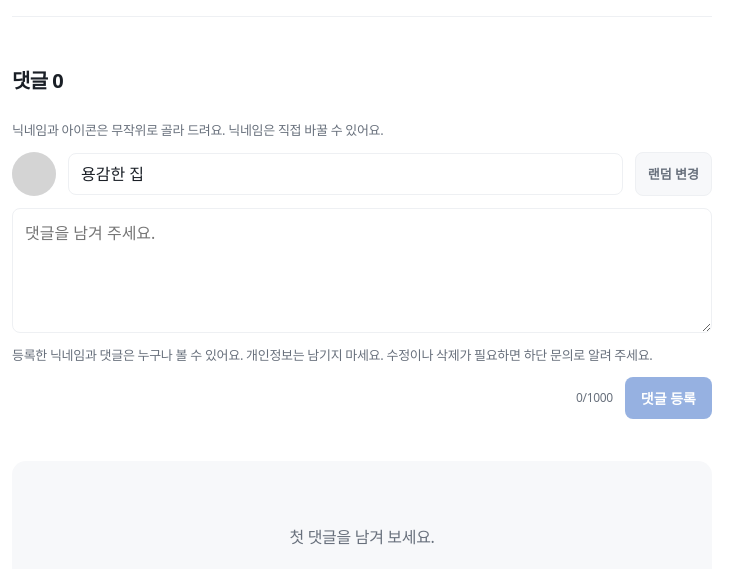
Test case: CommentsSection pending requests › keeps a new draft typed while the previous comment is being submitted
Step 1. Type "첫 번째 댓글" into the text box named "댓글 내용" → (362,271), box 12,208 -> 712,333
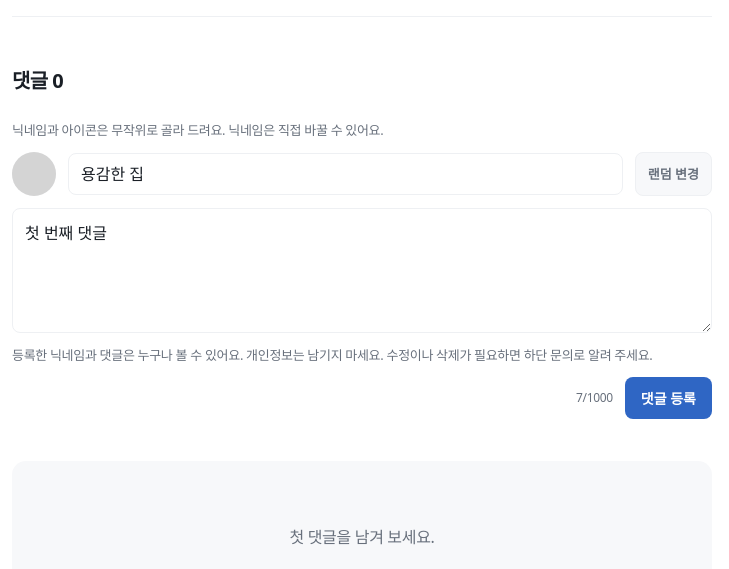
Step 2. Submit the form, box 12,120 -> 712,420
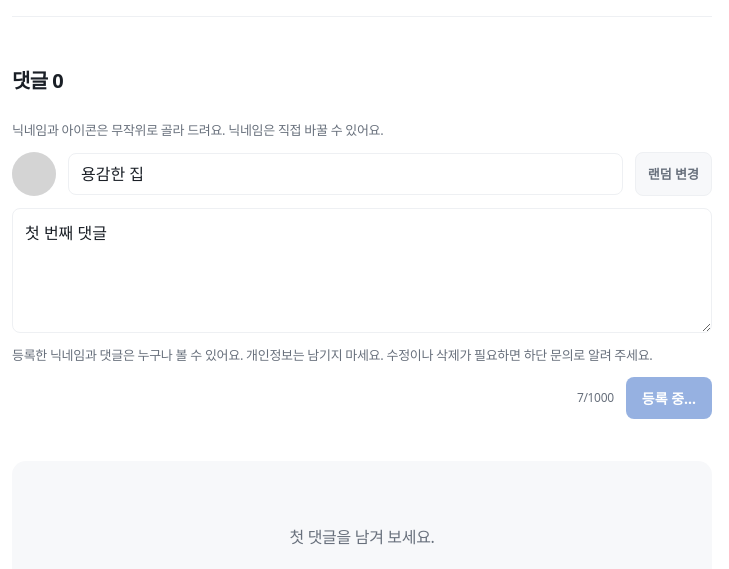
Step 3. Replace the text in the text box named "댓글 내용" with "쓰고 있는 다음 댓글" → (362,271), box 12,208 -> 712,333
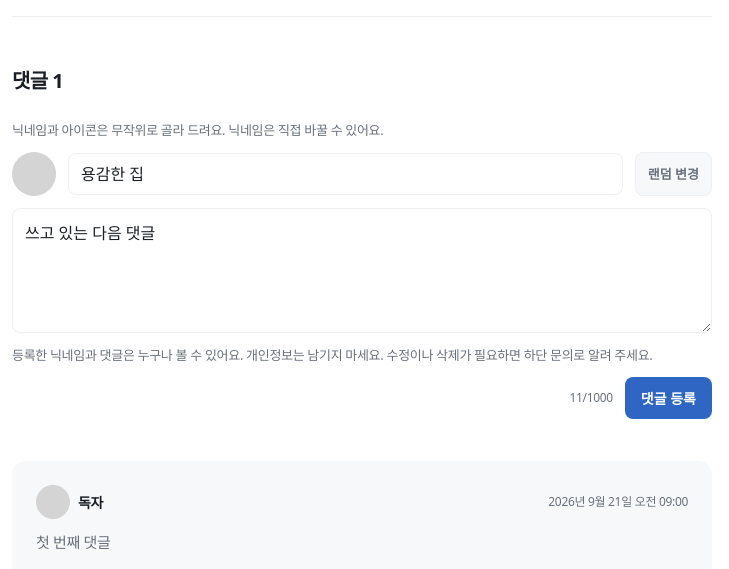
Now the text "첫 번째 댓글" is shown, box 36,532 -> 111,552
Now the heading "댓글 1" is shown, box 12,67 -> 63,94
